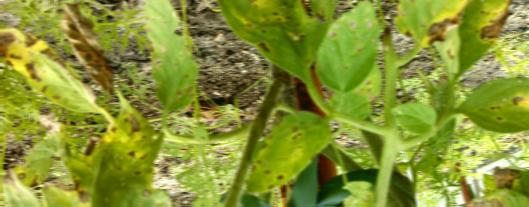Tomato Septoria leaf spot: (78, 96, 171, 207), (0, 31, 106, 116), (248, 106, 329, 195), (311, 1, 384, 94), (141, 0, 197, 113), (441, 0, 521, 76), (461, 68, 529, 136), (396, 0, 483, 50)
